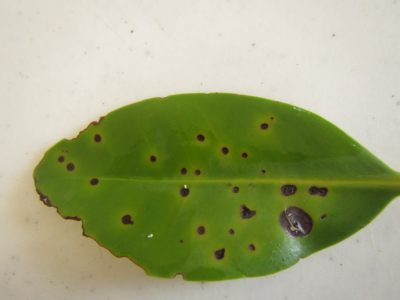unhealthy: (37, 78, 354, 283)
